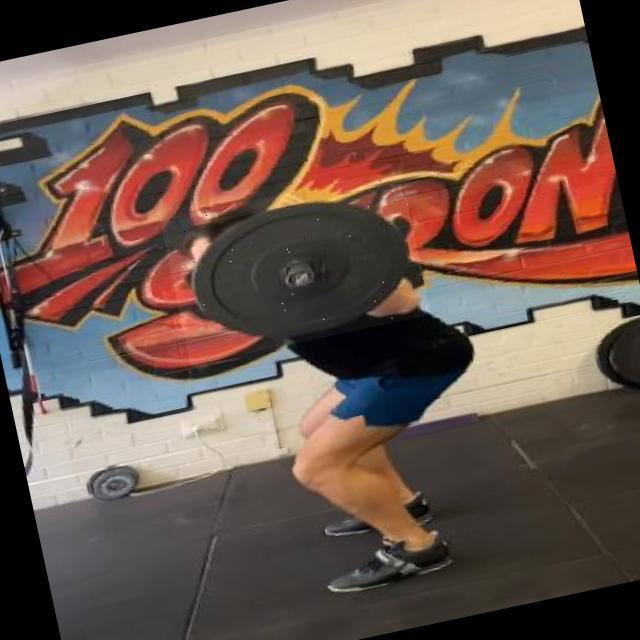barbell: (161, 169, 433, 366)
